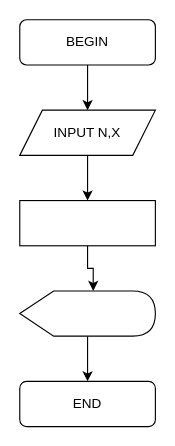
Some shapes in this 175 by 446 pixel diagram are drawn without their labels. Each missing label, with the centre of its shape:
CONGTHUC = pow(x,1.*/N): the point at 87,222
DISPLAY CONGTHUC: the point at 87,313
